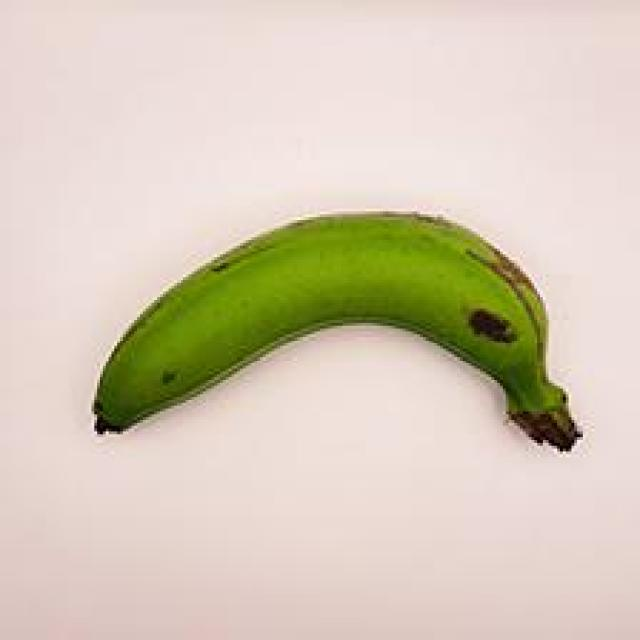Raw: (82, 182, 593, 485)
